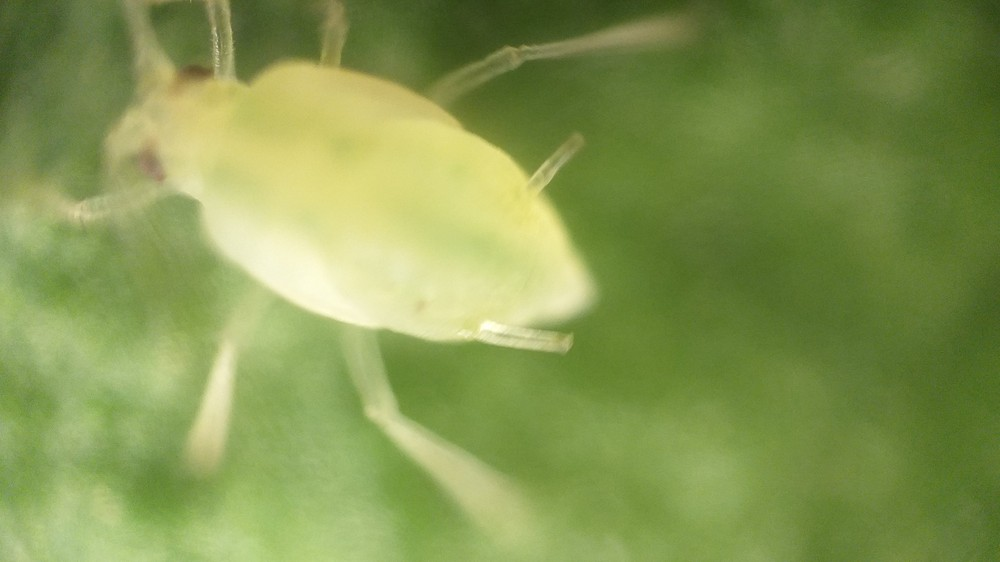Pulgon: (31, 10, 727, 535)
